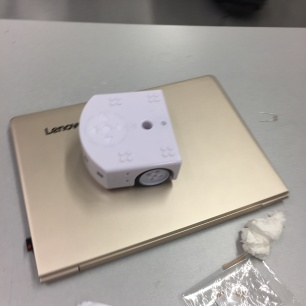thymio: (76, 86, 187, 196)
